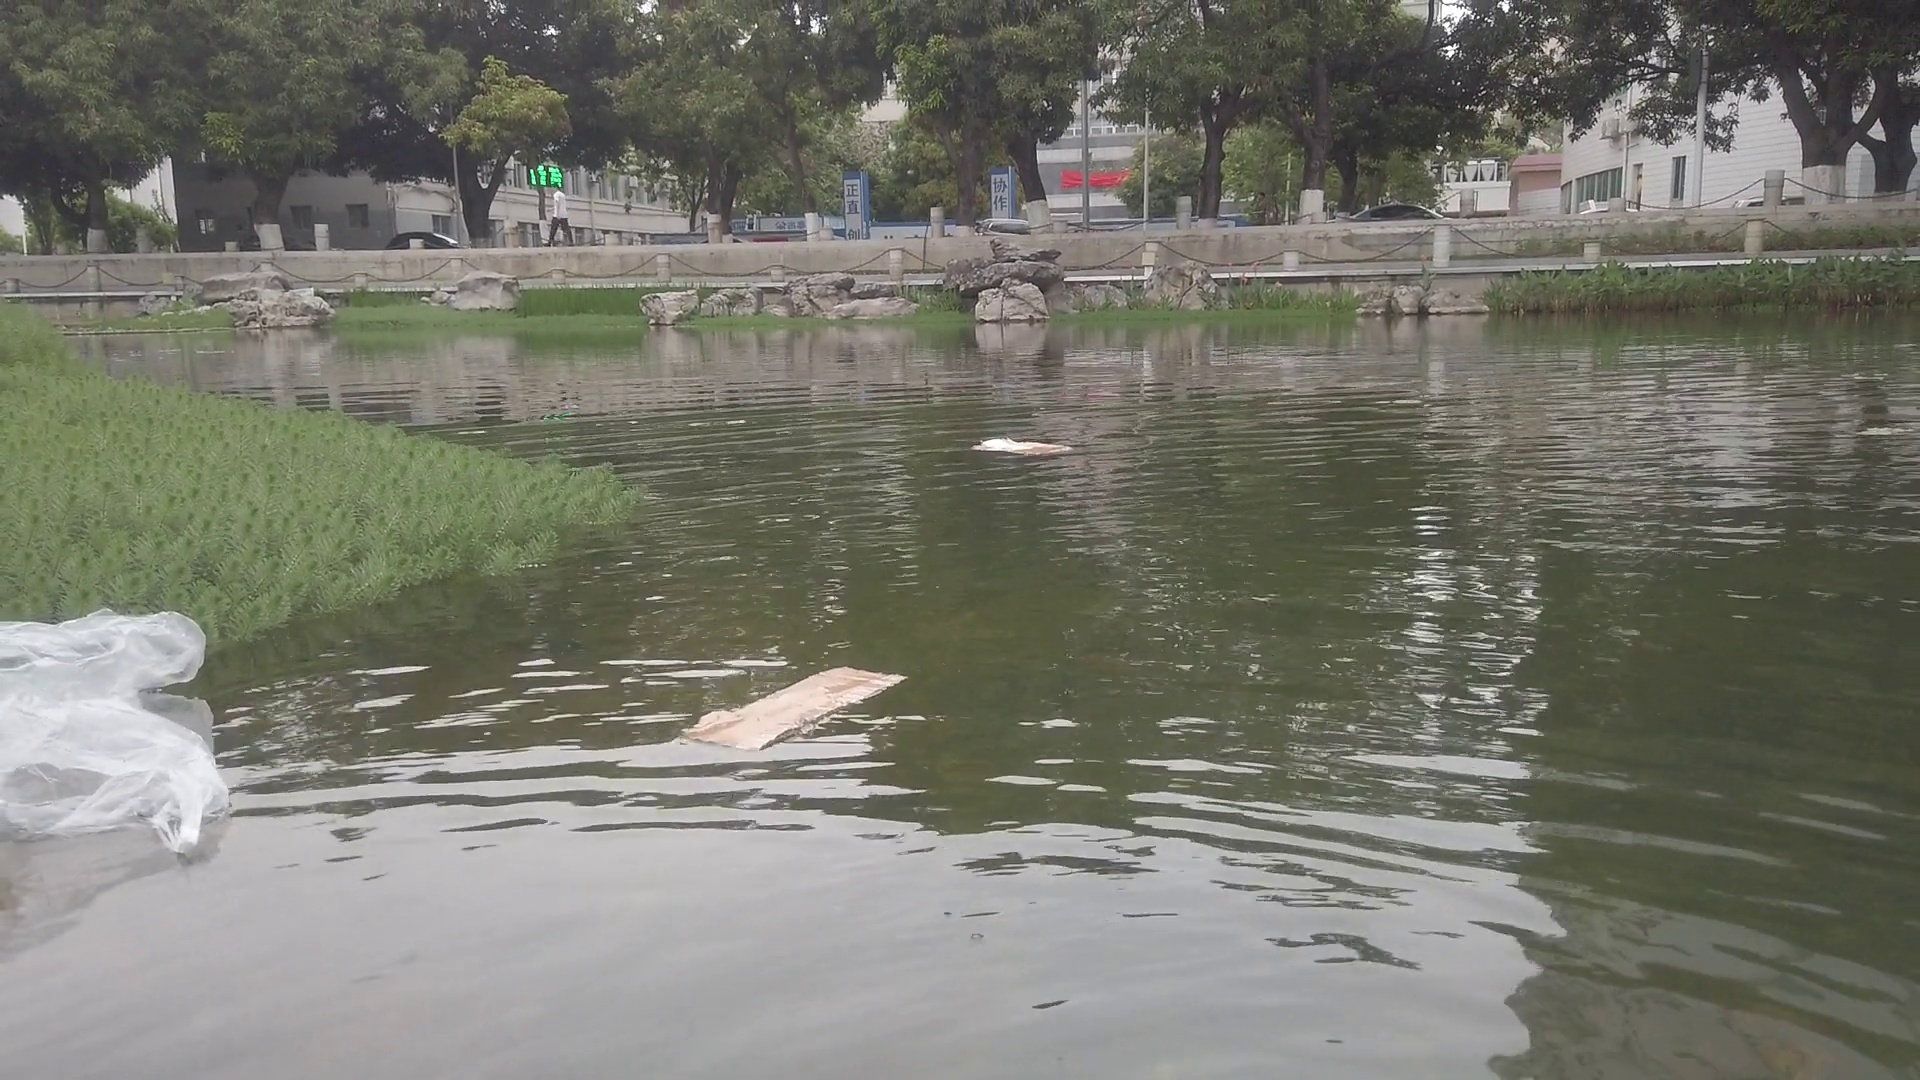paper: (682, 646, 909, 760), (976, 429, 1075, 460)
plastic: (1, 691, 225, 853), (3, 609, 218, 696)
